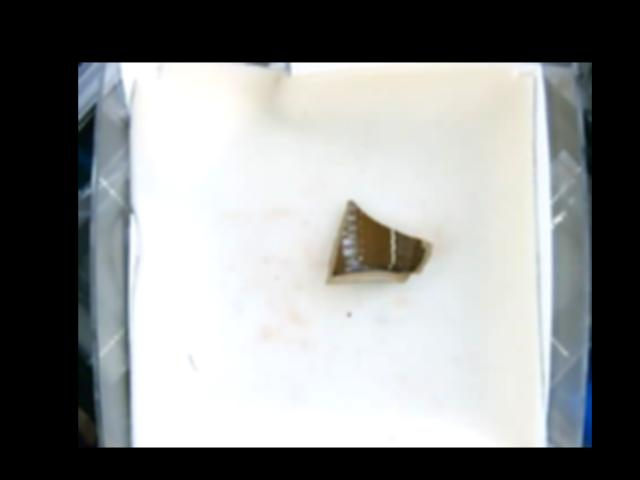China: (326, 200, 433, 288)
